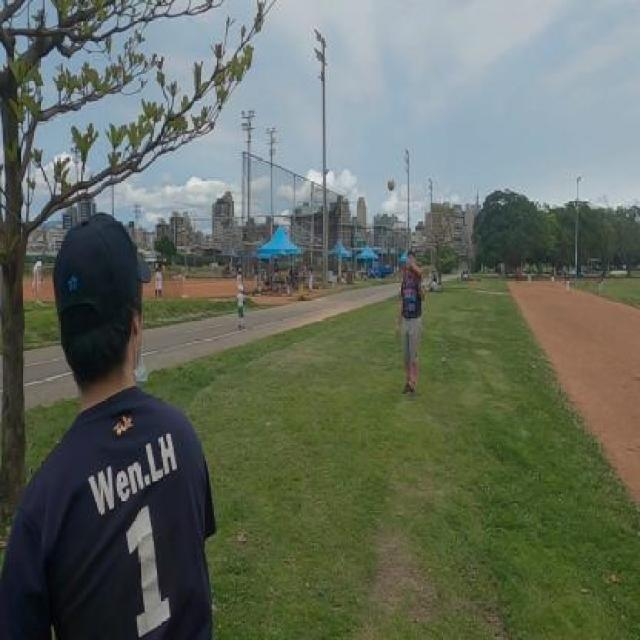baseball: (388, 178, 395, 191)
